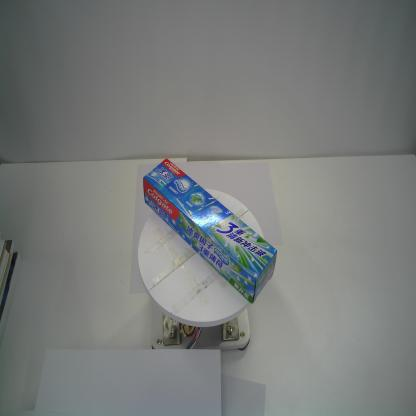Personal Hygiene: (143, 157, 278, 306)
